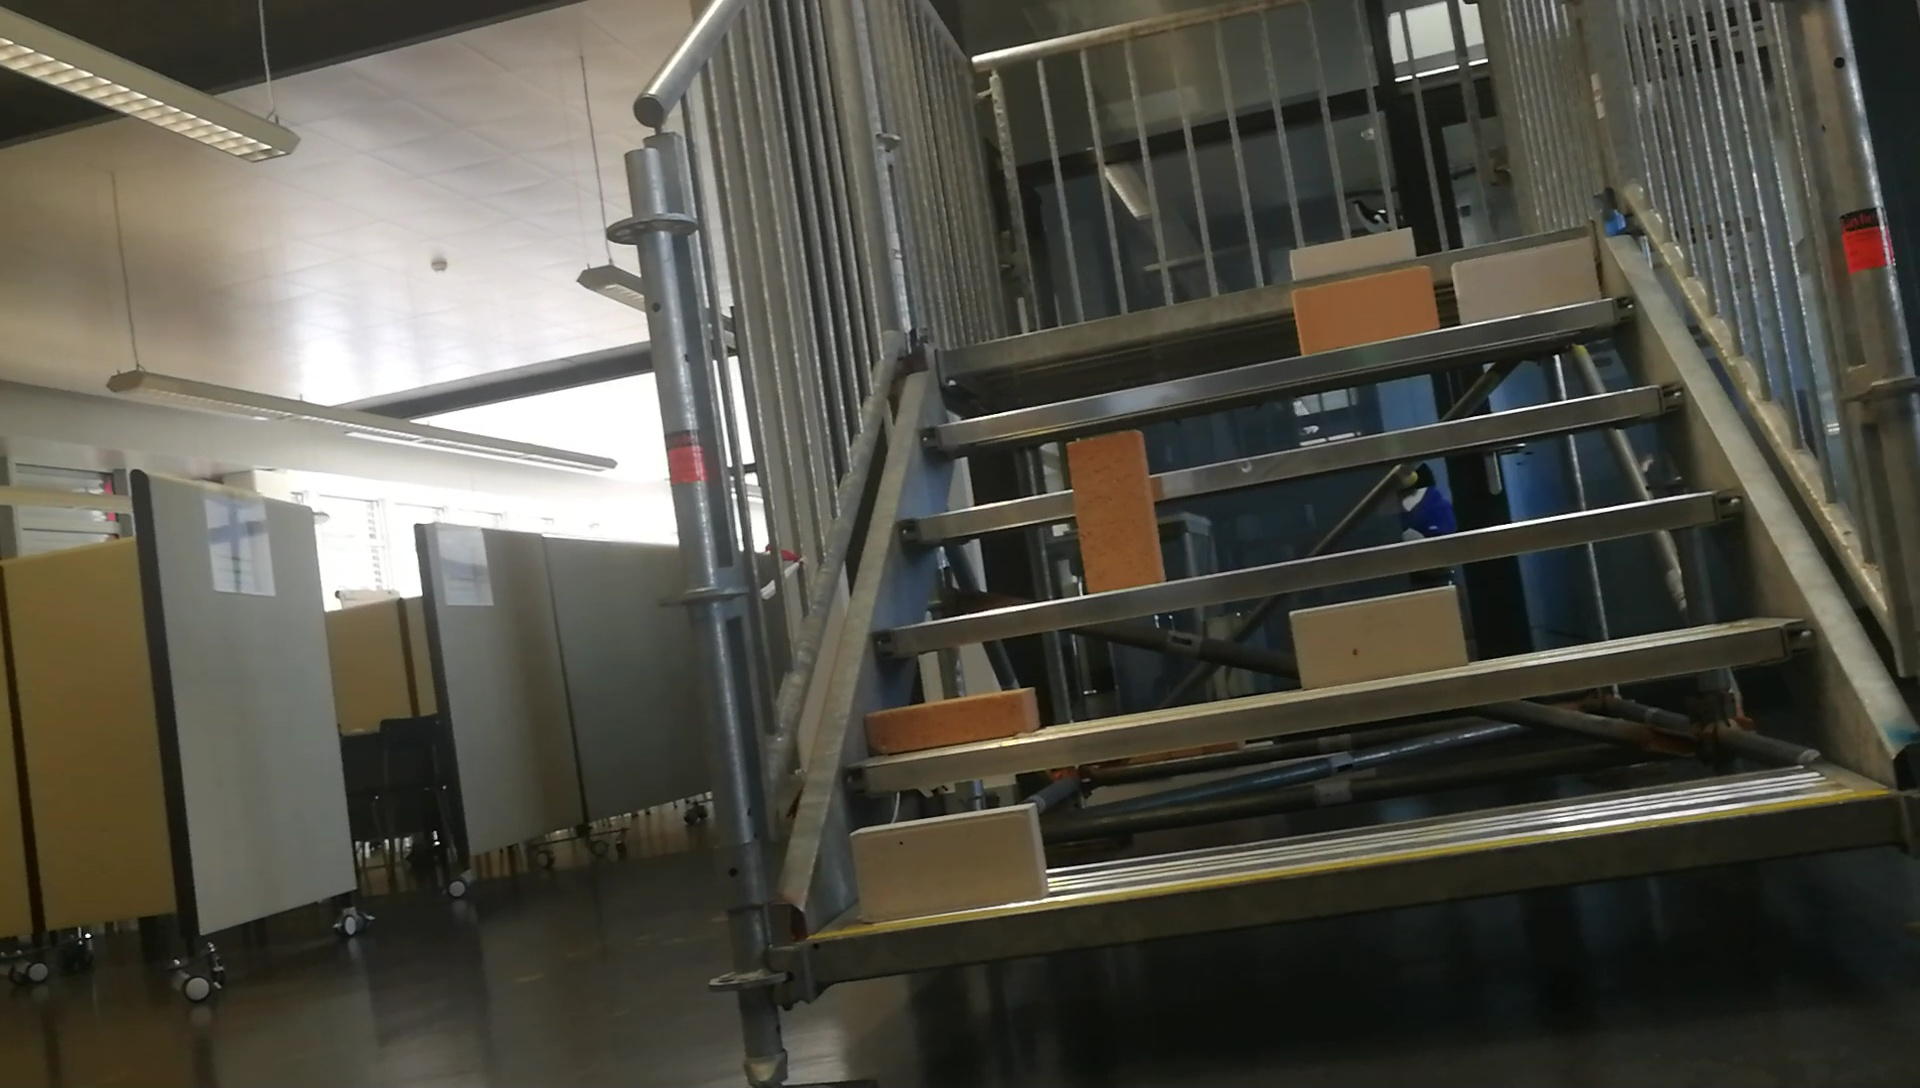brick: (851, 803, 1046, 921), (1292, 582, 1466, 687), (1068, 433, 1164, 593), (1292, 265, 1437, 352), (1455, 240, 1600, 320), (858, 686, 1038, 750), (1294, 229, 1412, 274)
edge: (808, 787, 1902, 979), (847, 619, 1812, 804), (874, 485, 1745, 663), (895, 375, 1683, 543), (919, 293, 1636, 452)
stairs: (603, 3, 1920, 1083)
steps: (773, 220, 1920, 1001)
